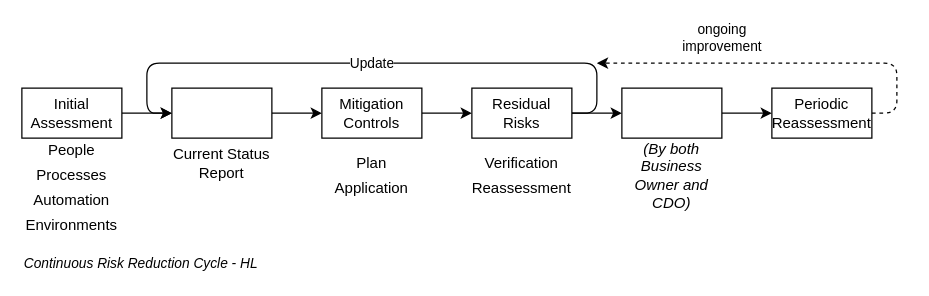
This 929x296 diagram has some shape labels left out. The shapes that lost their labels are listed below. From the top down, each one's centre as x and y in pixels, then its label:
At (x=221, y=112): "Assessed Risks".
At (x=671, y=112): "Residual Risk Acceptance".
